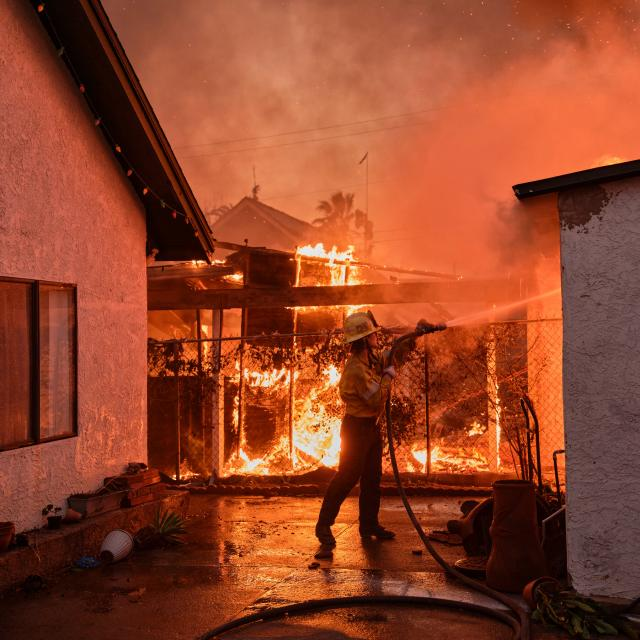fire: (392, 322, 559, 480), (176, 332, 348, 481), (148, 340, 176, 479)
